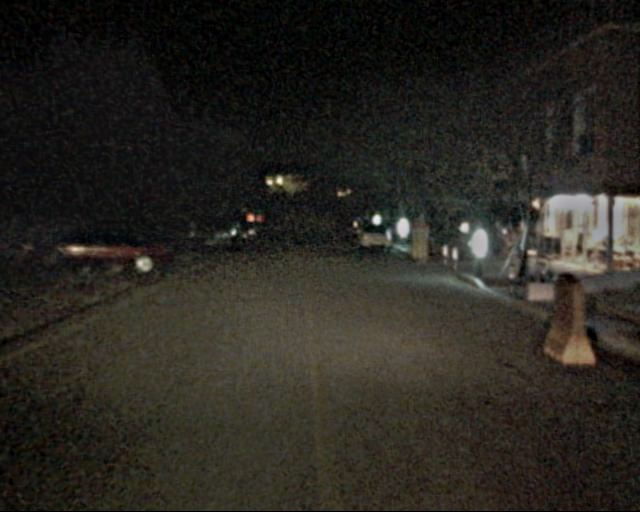person: (488, 219, 507, 266), (512, 220, 531, 267)
